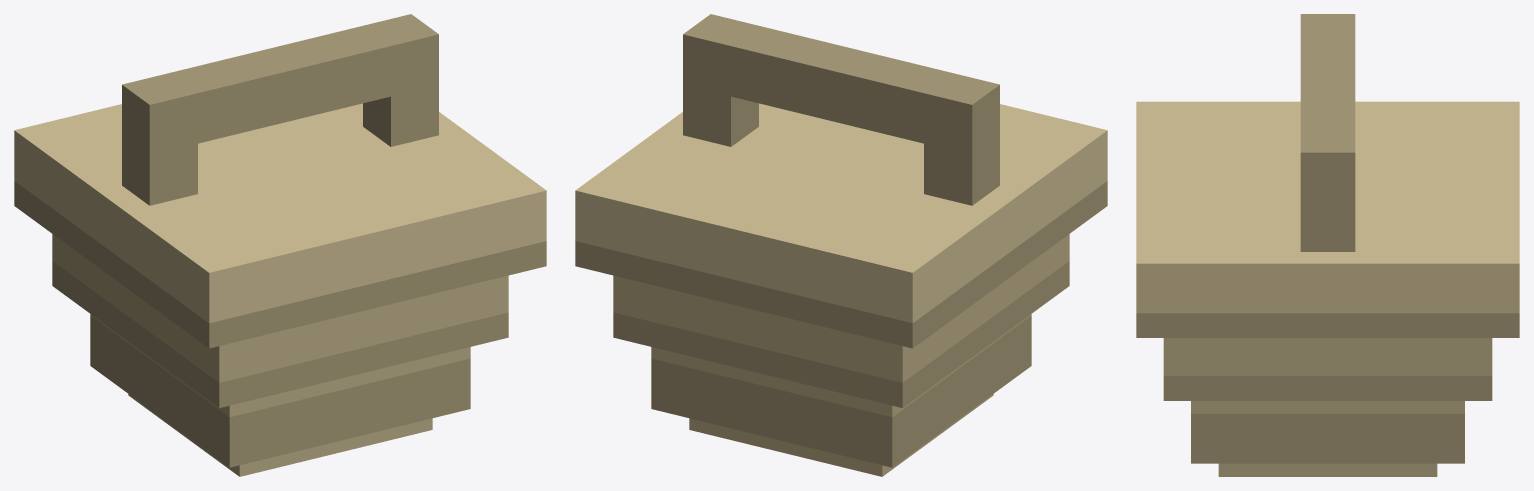
The model's file is cesta_pan_oscuro_01.glb.
3 renders of one model, left to right at view 1: azimuth 30°, elevation 25°; view 2: azimuth 150°, elevation 25°; view 3: azimuth 270°, elevation 25°, orthographic.
Parts seen in each view (by area): view 1: cesta_pan_oscuro; view 2: cesta_pan_oscuro; view 3: cesta_pan_oscuro.
Part boxes in pixels (x1,y1,x2,y2): cesta_pan_oscuro: (14, 14, 546, 476); cesta_pan_oscuro: (575, 14, 1107, 476); cesta_pan_oscuro: (1136, 14, 1519, 476).
Bounding box in the file's own units: 1 × 1 × 1.
